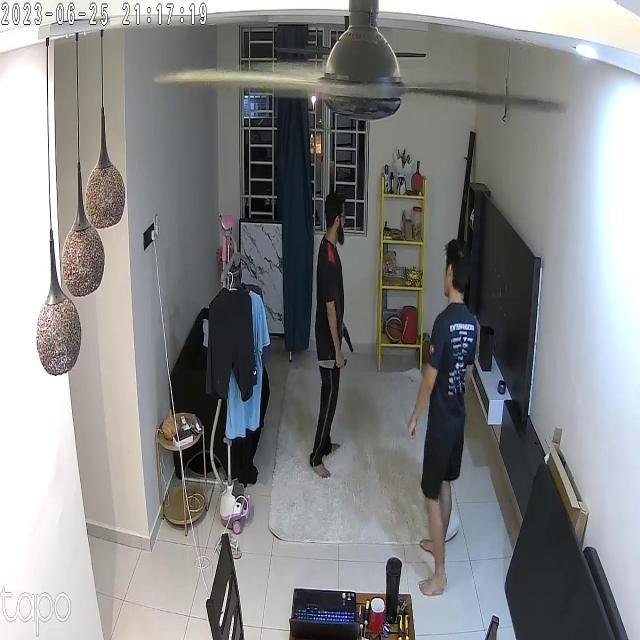Gun: (343, 321, 359, 358)
